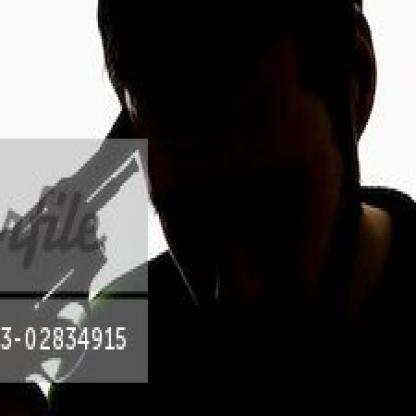gun: (0, 99, 167, 411)
